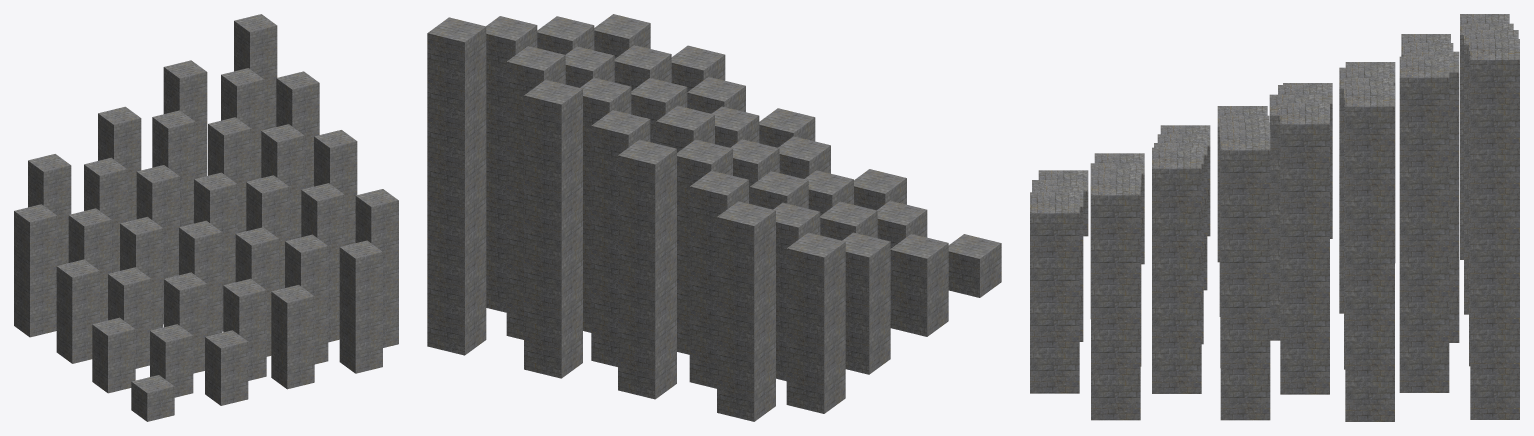
File: MyLevel.fbx
The picture shows the model from 3 angles, left to right: view 1: azimuth 30°, elevation 25°; view 2: azimuth 150°, elevation 25°; view 3: azimuth 270°, elevation 25°; orthographic projection. The views are drawn at different scales.
Visible parts, largest first — view 1: Cube (×84); view 2: Cube (×81); view 3: Cube (×76).
Part boxes in pixels (<box>): Cube (×84): <box>14,14,398,421</box>; Cube (×81): <box>427,14,1001,421</box>; Cube (×76): <box>1030,14,1519,421</box>.
Size of the model in its own units: 9.89 by 8 by 9.86.
